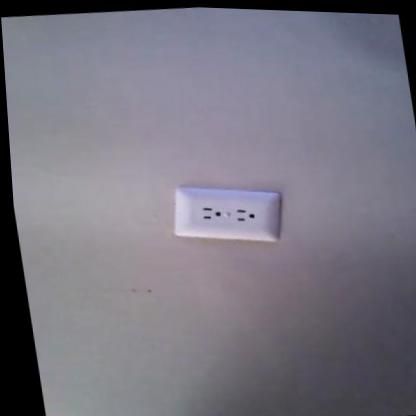OUTLET: (166, 181, 286, 250)
